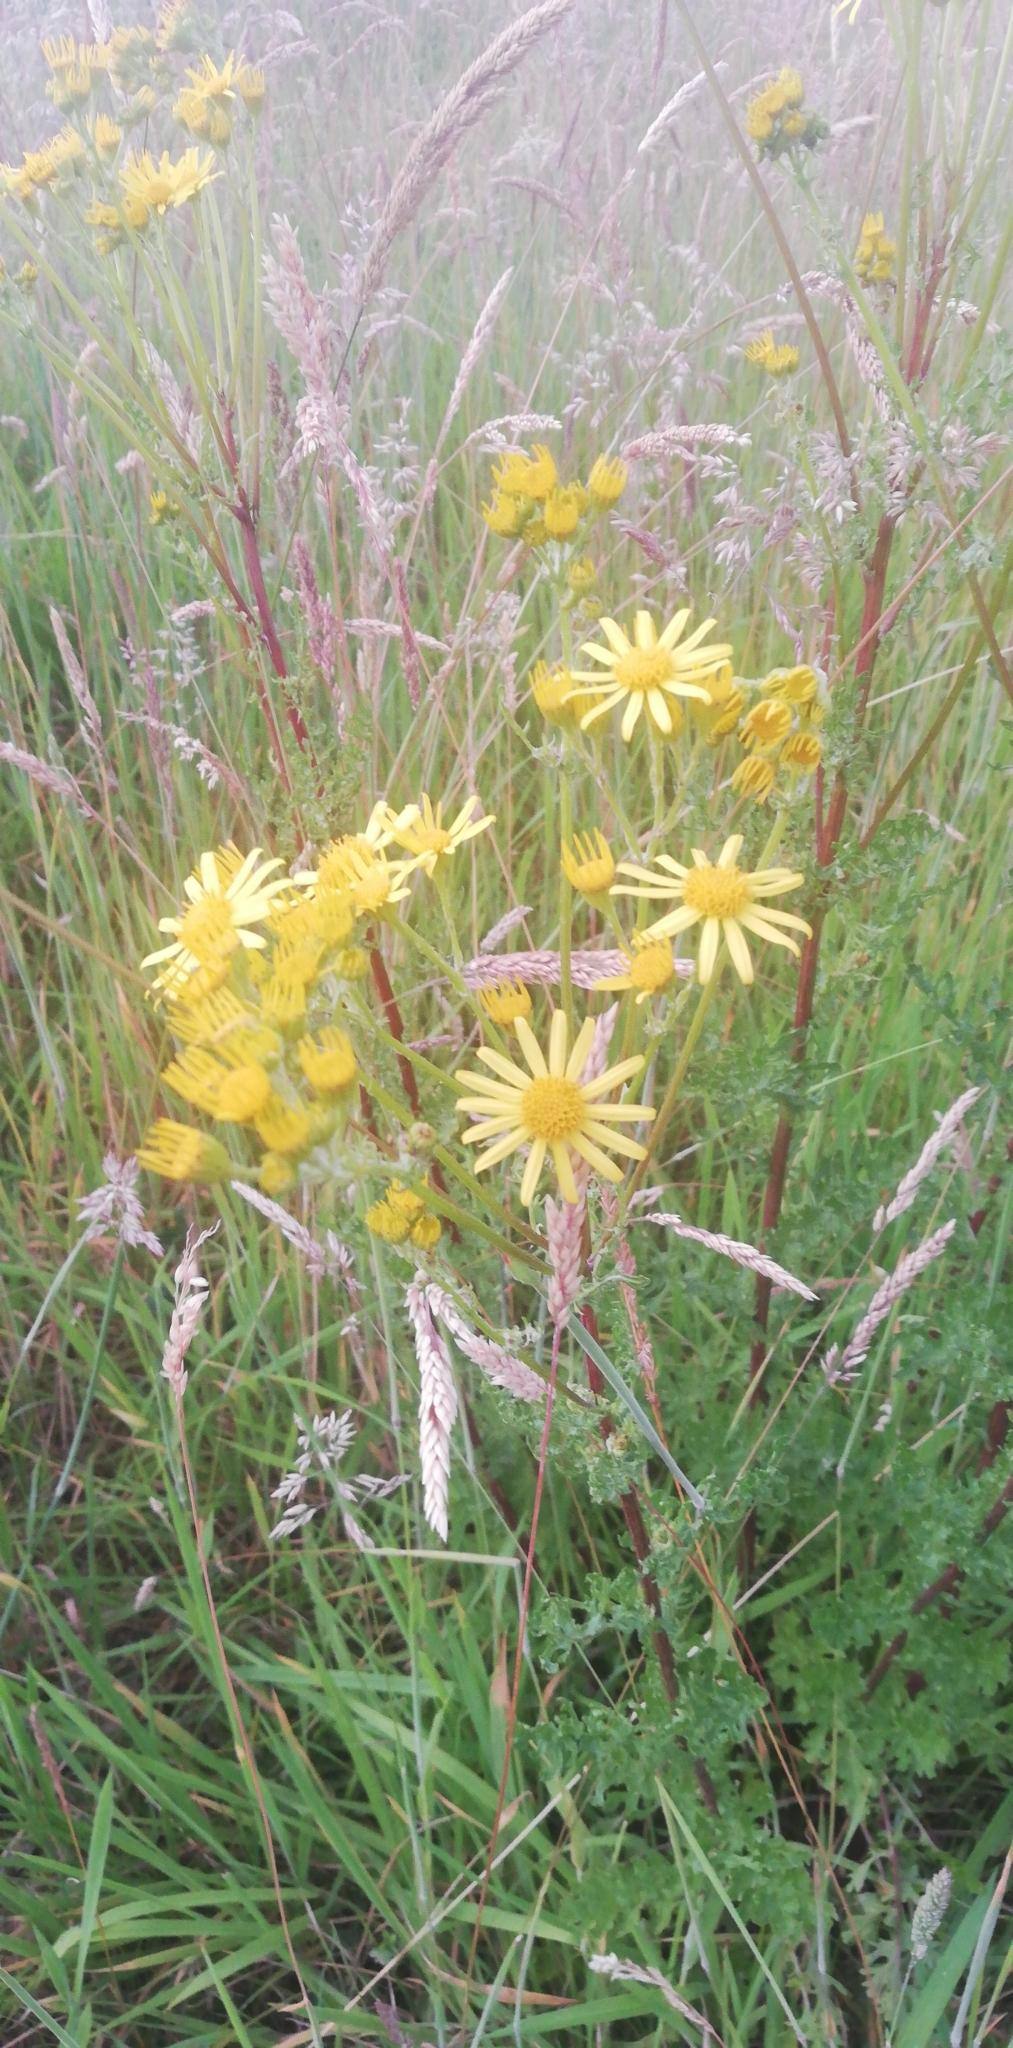Jacobaea vulgaris: (86, 404, 860, 1987), (614, 47, 990, 1537), (30, 10, 427, 1130)
